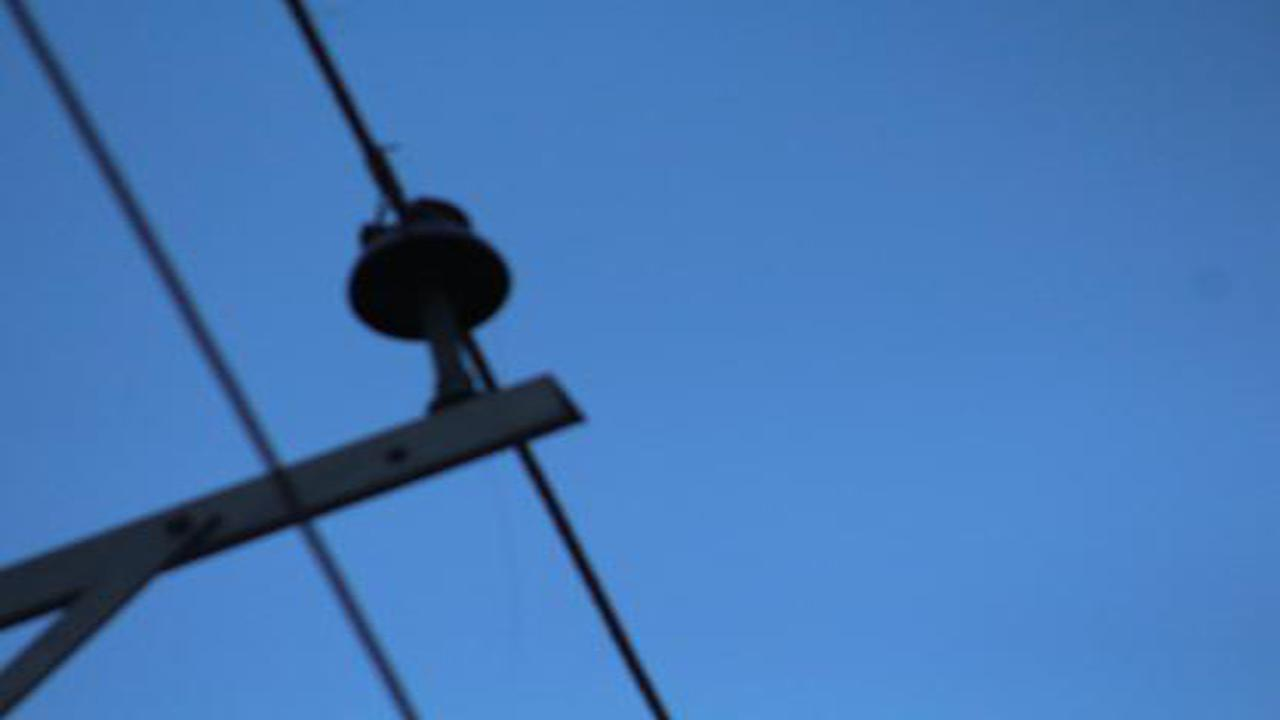insulator_pin: (342, 190, 514, 349)
